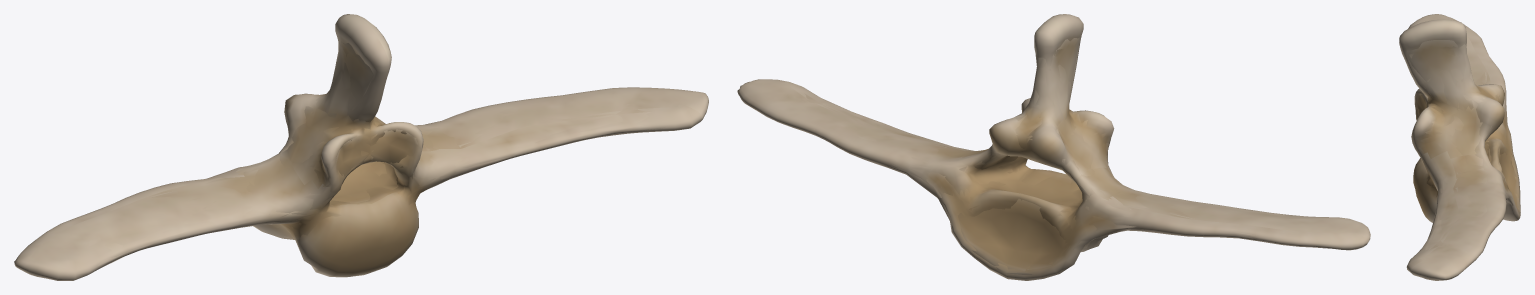
The model's file is vertebrae lumbales 4.fbx.
3 renders of one model, left to right at view 1: azimuth 30°, elevation 25°; view 2: azimuth 150°, elevation 25°; view 3: azimuth 270°, elevation 25°, orthographic. The views are drawn at different scales.
Parts seen in each view (by area): view 1: vertebrae lumbales 4, vertebrae lumbales 4 low; view 2: vertebrae lumbales 4, vertebrae lumbales 4 low; view 3: vertebrae lumbales 4, vertebrae lumbales 4 low.
Boxes of the visible parts, bbox=[...] form: vertebrae lumbales 4: bbox=[14, 14, 708, 280]; vertebrae lumbales 4 low: bbox=[85, 41, 664, 268]; vertebrae lumbales 4: bbox=[737, 14, 1370, 280]; vertebrae lumbales 4 low: bbox=[797, 37, 1332, 274]; vertebrae lumbales 4: bbox=[1399, 14, 1520, 280]; vertebrae lumbales 4 low: bbox=[1406, 40, 1520, 274].
Bounding box in the file's own units: 32.15 × 11.33 × 6.28.
Materials: 1 (1 with a texture image).
